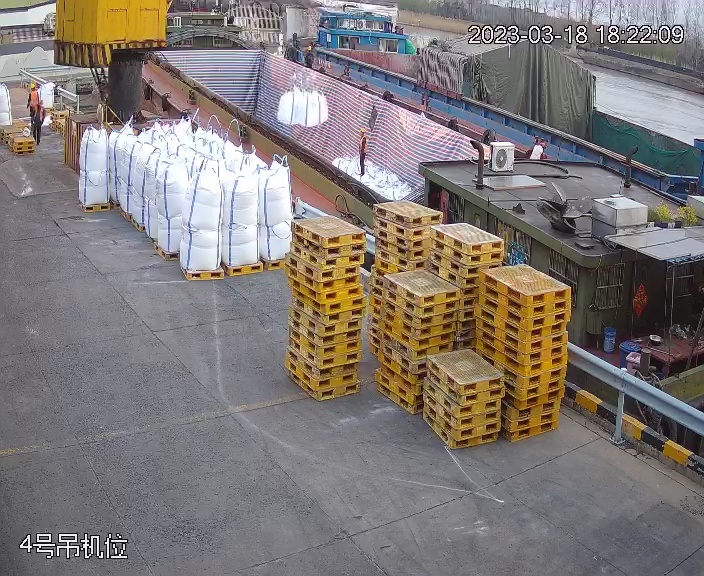head: (27, 80, 41, 101), (306, 45, 315, 58), (360, 126, 367, 141)
helmet: (28, 80, 37, 88), (308, 45, 314, 52), (360, 126, 366, 133)
people: (32, 101, 46, 145), (358, 125, 369, 175), (27, 79, 39, 112), (305, 44, 315, 69)
